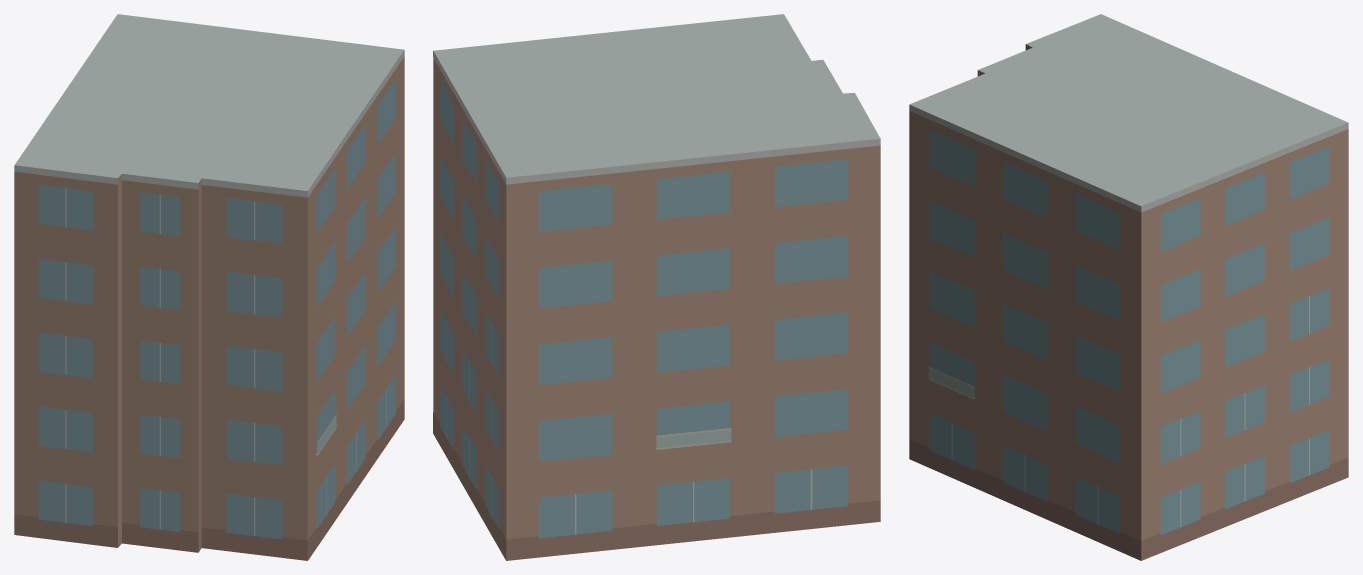
The model's file is survey-upis-33009096.glb.
The picture shows the model from 3 angles, left to right: view 1: azimuth 30°, elevation 25°; view 2: azimuth 150°, elevation 25°; view 3: azimuth 270°, elevation 25°; orthographic projection. The views are drawn at different scales.
Parts seen in each view (by area): view 1: survey-upis-33009096.tmp; view 2: survey-upis-33009096.tmp; view 3: survey-upis-33009096.tmp.
Boxes of the visible parts, left/top/right/bottom form: survey-upis-33009096.tmp: left=14, top=14, right=404, bottom=560; survey-upis-33009096.tmp: left=433, top=14, right=880, bottom=560; survey-upis-33009096.tmp: left=909, top=14, right=1348, bottom=560.
Bounding box in the file's own units: 16.18 × 13.9 × 15.62.
